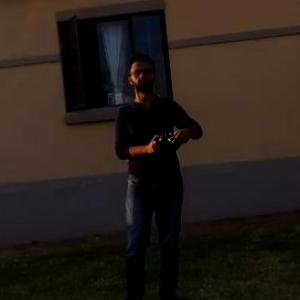follow: (105, 46, 206, 299)
